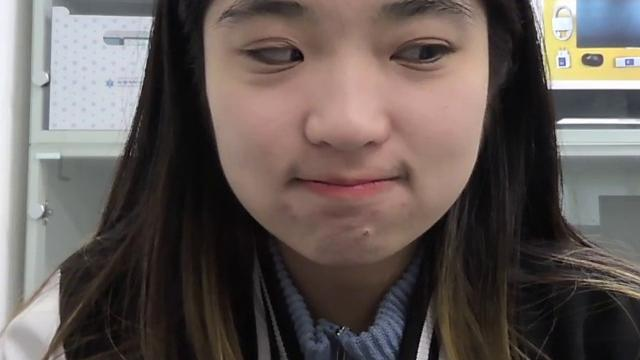eye: (292, 47, 310, 65), (421, 44, 439, 61)
iris: (391, 41, 448, 64), (254, 40, 304, 63)
